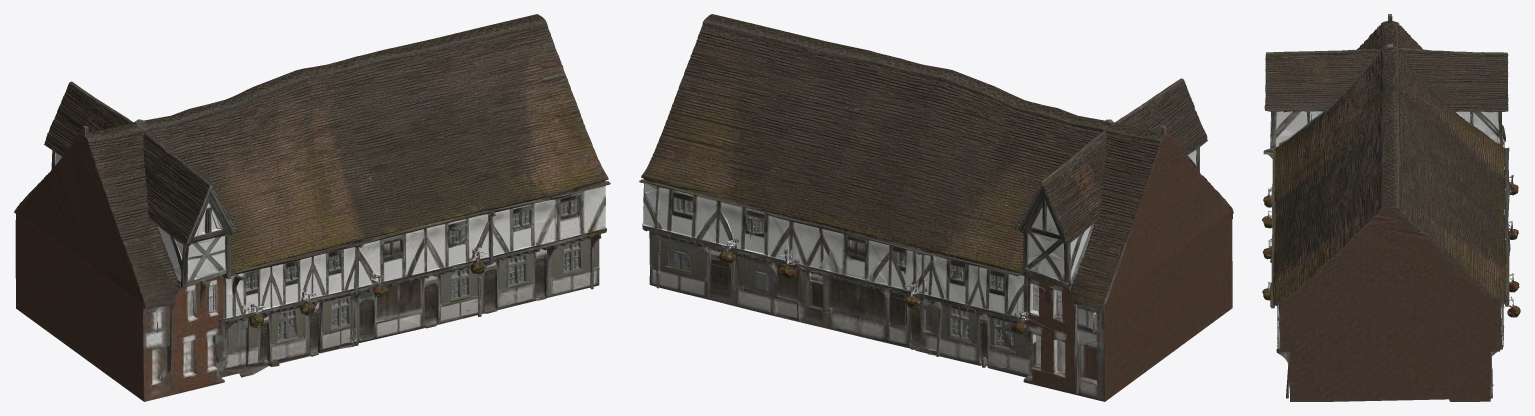
Rendered from rental_row_abbey_cottages_tewkesbury_a.meshy.reduced.glb.
3 views of the same model, side by side, from view 1: azimuth 30°, elevation 25°; view 2: azimuth 150°, elevation 25°; view 3: azimuth 270°, elevation 25° (orthographic). The views are drawn at different scales.
Size of the model in its own units: 1.9 by 0.9045 by 1.07.
Materials: 1 (1 with a texture image).
